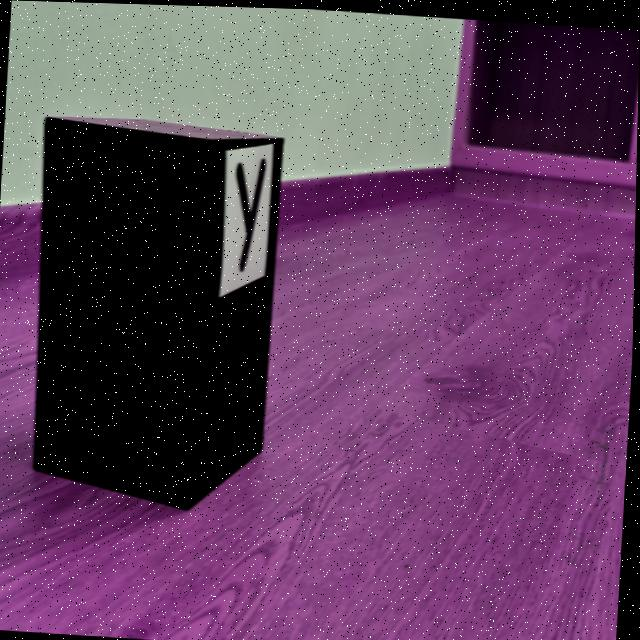Y: (236, 156, 266, 270)
